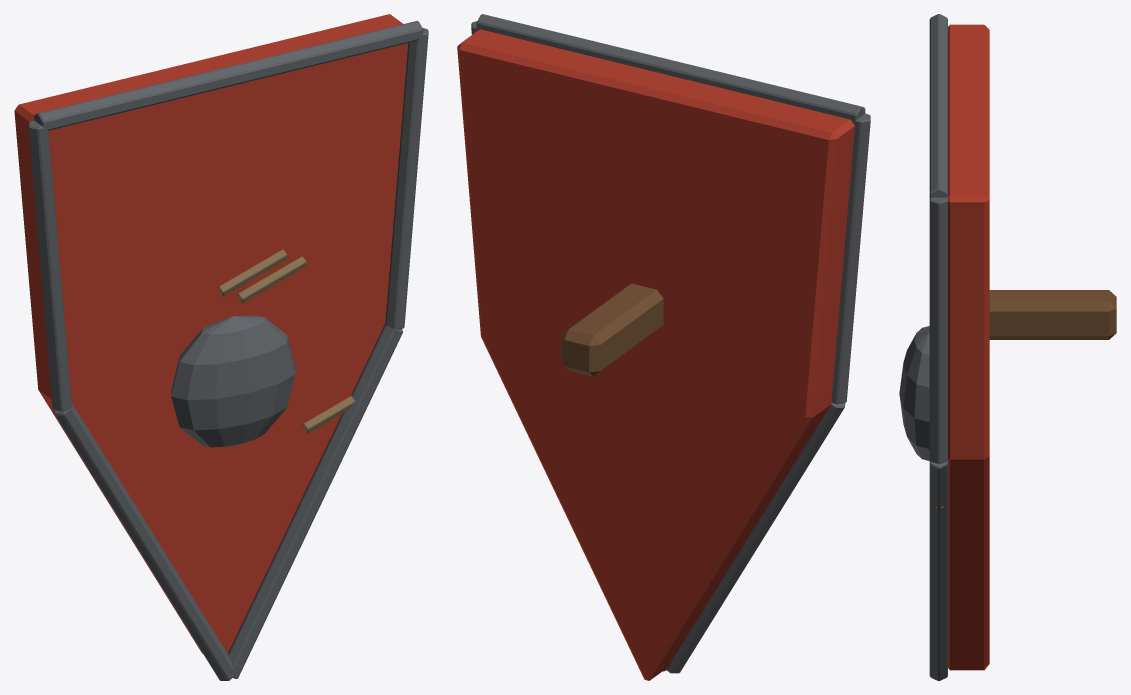
The model's file is runtime.glb.
The picture shows the model from 3 angles, left to right: view 1: azimuth 30°, elevation 25°; view 2: azimuth 150°, elevation 25°; view 3: azimuth 270°, elevation 25°; orthographic projection. The views are drawn at different scales.
Parts seen in each view (by area): view 1: falkenwacht-wall-shield-v02_nocol; view 2: falkenwacht-wall-shield-v02_nocol; view 3: falkenwacht-wall-shield-v02_nocol.
Part boxes in pixels (x1,y1,x2,y2): falkenwacht-wall-shield-v02_nocol: [14, 14, 428, 680]; falkenwacht-wall-shield-v02_nocol: [457, 14, 870, 680]; falkenwacht-wall-shield-v02_nocol: [899, 14, 1116, 680].
Size of the model in its own units: 1.12 by 1.64 by 0.5592.
